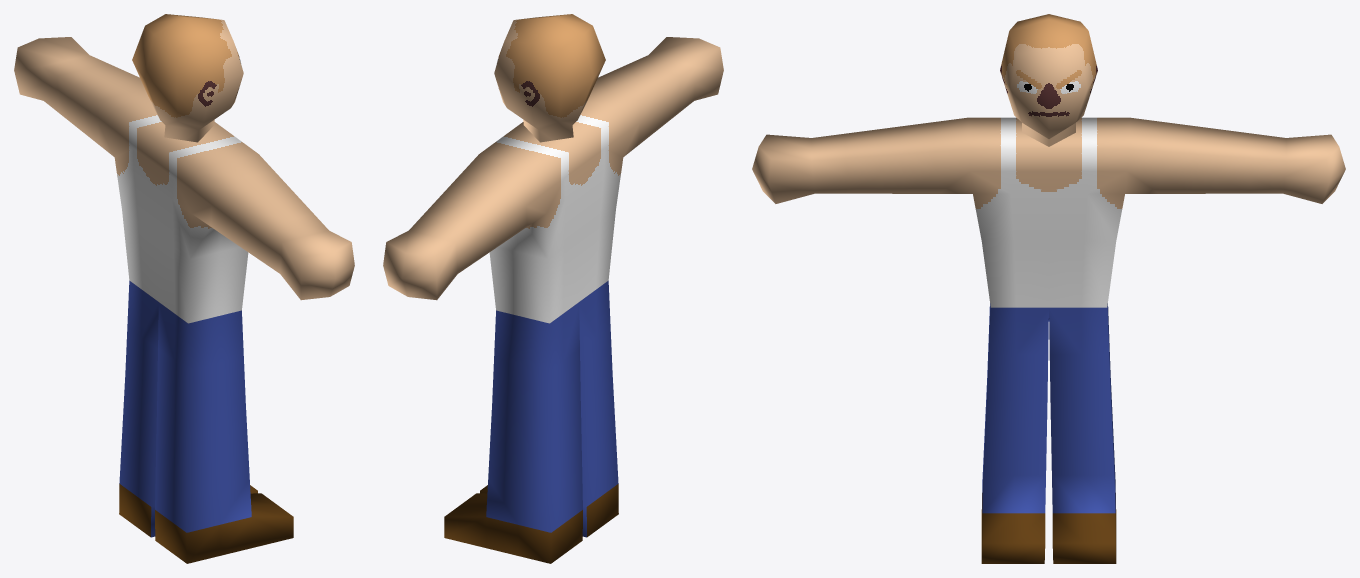
Rendered from person test.glb.
3 renders of one model, left to right at view 1: azimuth 30°, elevation 25°; view 2: azimuth 150°, elevation 25°; view 3: azimuth 270°, elevation 25°, orthographic.
Parts seen in each view (by area): view 1: Cube.001, Cube; view 2: Cube.001, Cube; view 3: Cube.001, Cube.
Part boxes in pixels (x1,y1,x2,y2): Cube.001: (14, 37, 354, 563); Cube: (132, 14, 243, 142); Cube.001: (383, 37, 723, 563); Cube: (494, 14, 605, 142); Cube.001: (752, 117, 1345, 563); Cube: (1000, 14, 1097, 146).
Bounding box in the file's own units: 0.8061 × 3.43 × 3.63.
4 materials, 2 textured.
